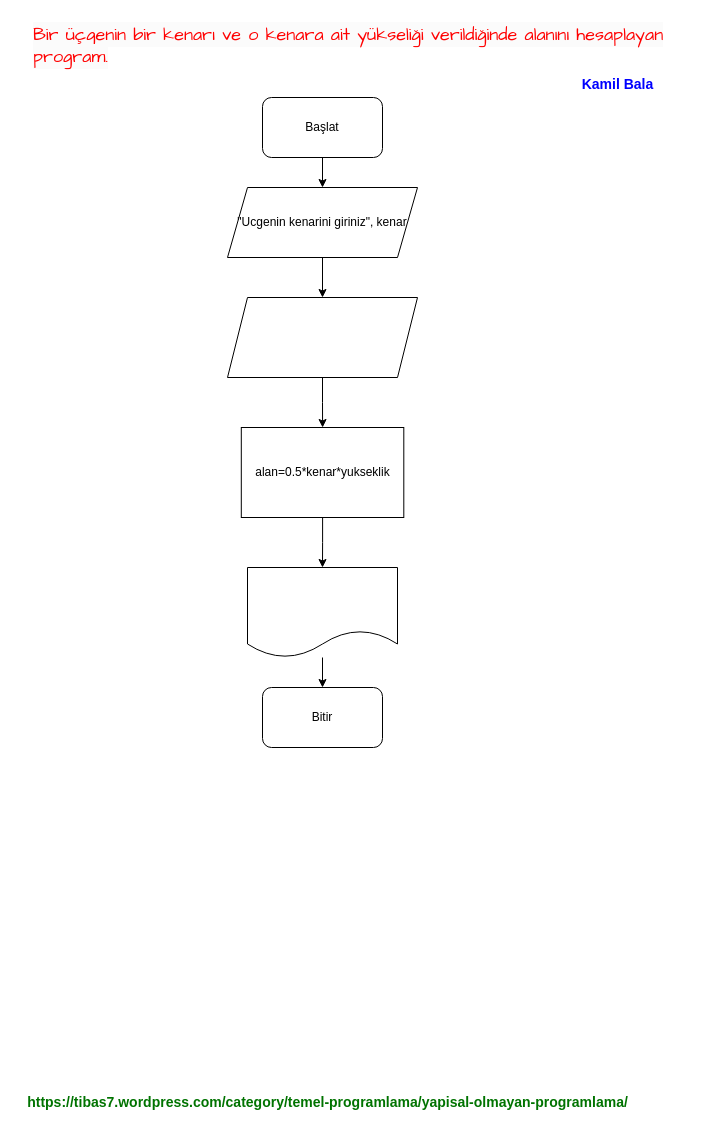
The diagram is 704 pixels wide and 1134 high, and some of its shapes have lost their labels. Here are the shapes that lost their labels. From the top down, the box of each, then its label:
(226, 296, 418, 378): "O kenera ait yukseligi giriniz", kenar
(246, 566, 398, 658): Yaz,alan
